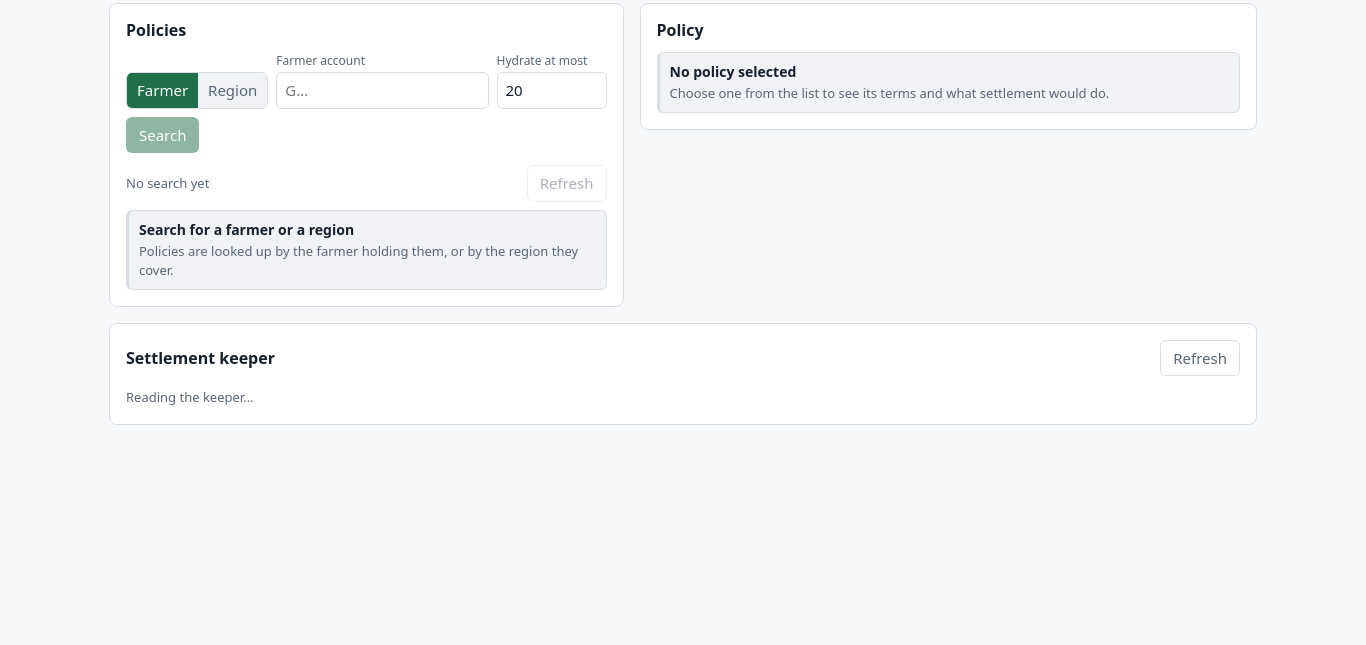
Test: one policy › refuses to submit on a read-only deployment, and says why
This screenshot has width=1366, height=645.
Type "GBZX" into the field labelled "Farmer account" at point(382, 90), box 276,72 -> 488,108
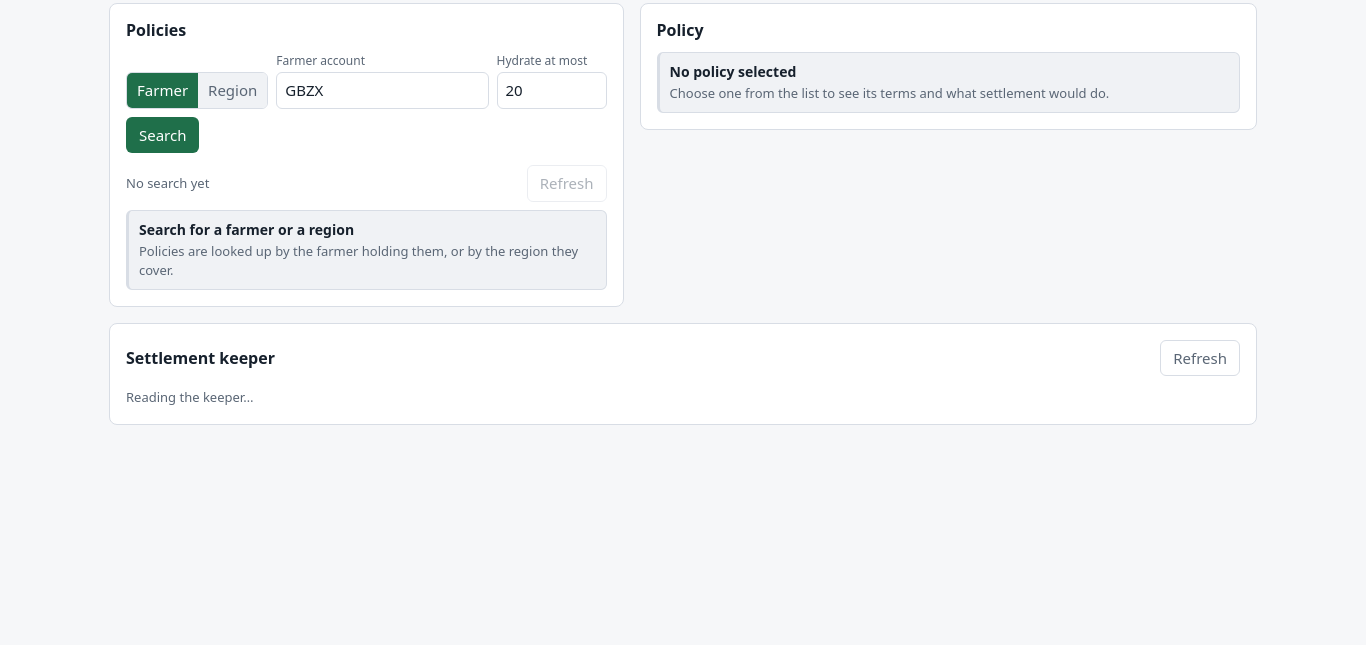
Click the button "Search" at point(163, 135), box 126,116 -> 200,153
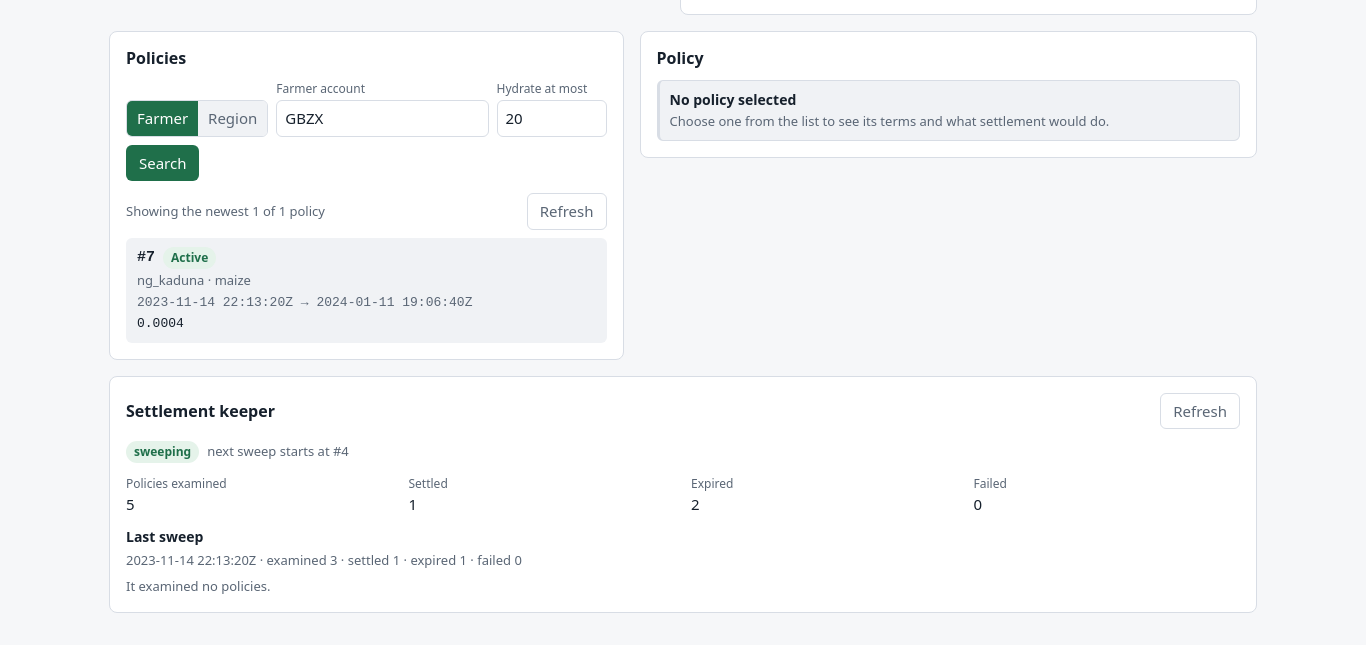
Click the button "#7" at point(190, 258), box 126,238 -> 606,342
(page scrolled)
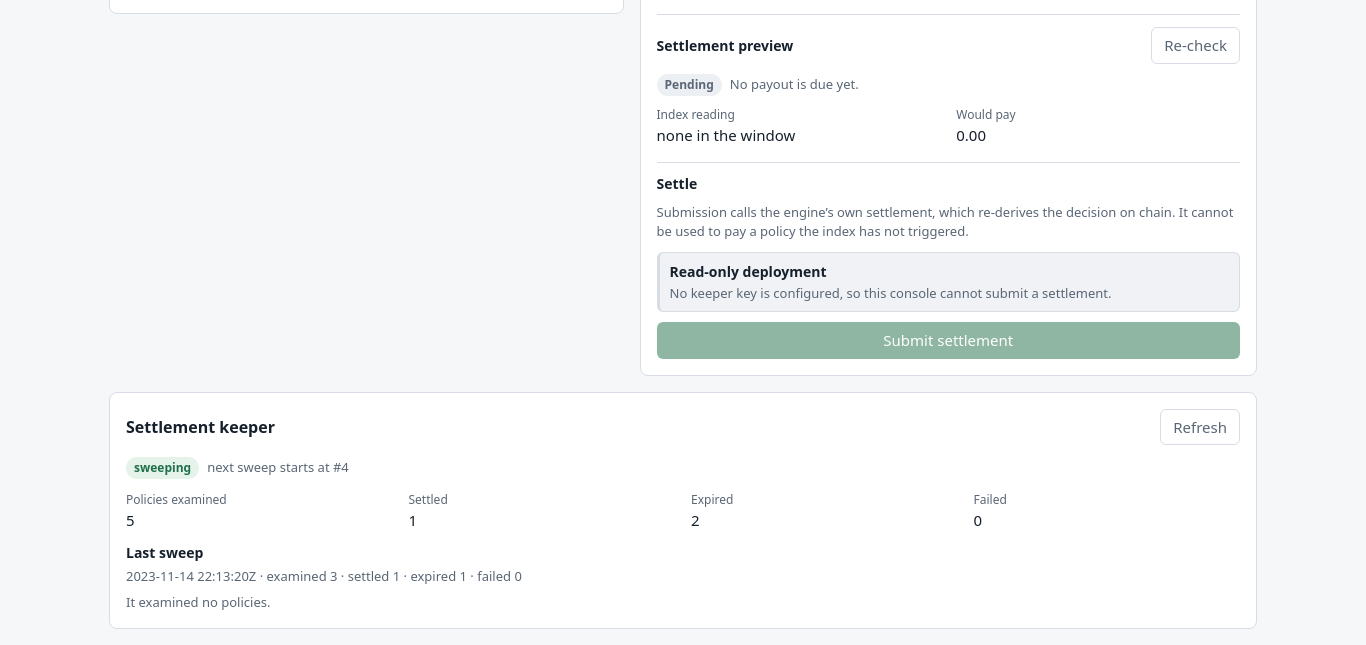
Expected: the text "Read-only deployment" is shown, 670,262 -> 826,280
Expected: the button "Submit settlement" is disabled, 656,322 -> 1240,358
